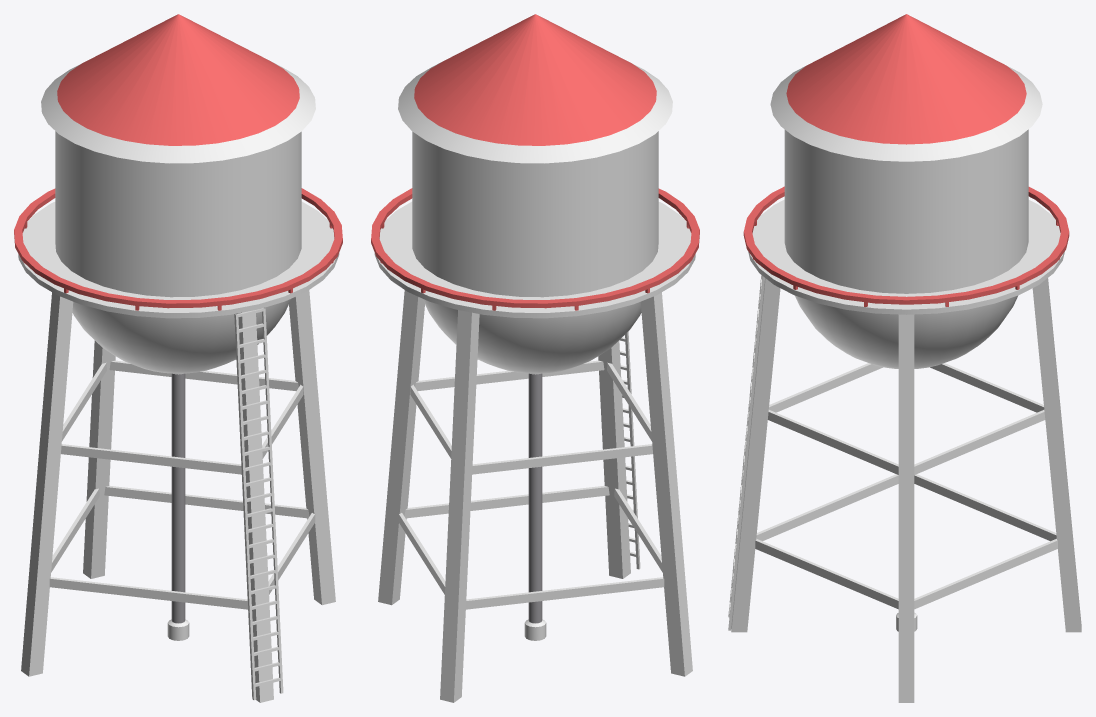
The model's file is building_watertower.fbx.
3 views of the same model, side by side, from view 1: azimuth 30°, elevation 25°; view 2: azimuth 150°, elevation 25°; view 3: azimuth 270°, elevation 25° (orthographic).
Parts seen in each view (by area): view 1: building_watertower, legs, beams, ladder, railing, drainpipe; view 2: building_watertower, legs, beams, railing, drainpipe, ladder; view 3: building_watertower, legs, beams, railing, ladder.
Part boxes in pixels (<box>): building_watertower: <box>18,14,339,373</box>; legs: <box>21,290,335,702</box>; beams: <box>49,360,315,609</box>; ladder: <box>234,307,283,700</box>; railing: <box>14,188,342,308</box>; drainpipe: <box>167,373,189,640</box>; building_watertower: <box>374,14,695,373</box>; legs: <box>378,290,692,702</box>; beams: <box>398,360,664,609</box>; railing: <box>371,188,699,308</box>; drainpipe: <box>524,373,546,640</box>; ladder: <box>619,331,640,569</box>; building_watertower: <box>748,14,1064,368</box>; legs: <box>731,278,1081,702</box>; beams: <box>755,363,1057,609</box>; railing: <box>743,186,1069,304</box>; ladder: <box>728,275,764,630</box>.
Bounding box in the file's own units: 12.91 × 25.02 × 13.02.
